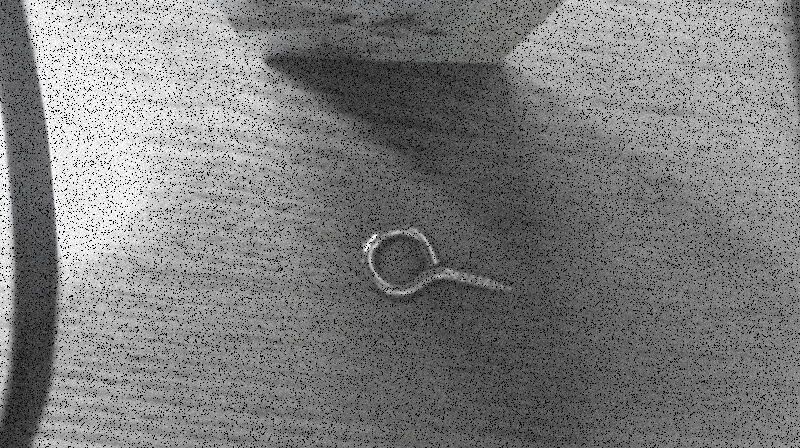O001: (355, 222, 515, 301)
